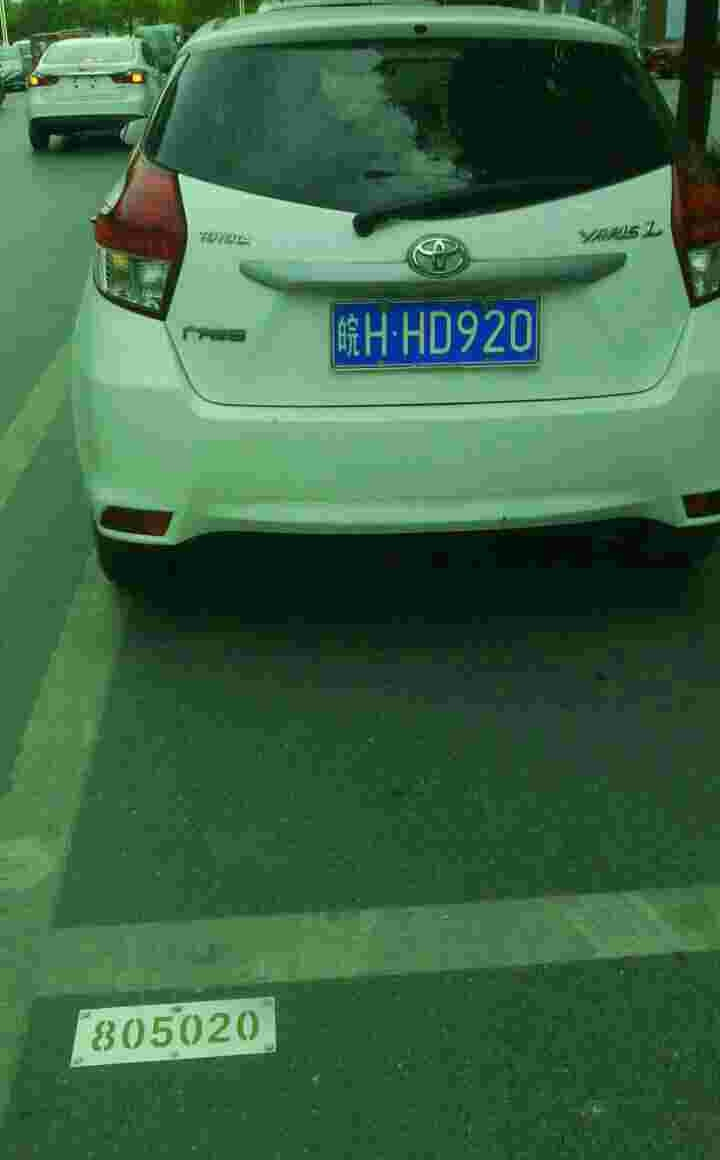license_plate: (337, 294, 556, 365)
